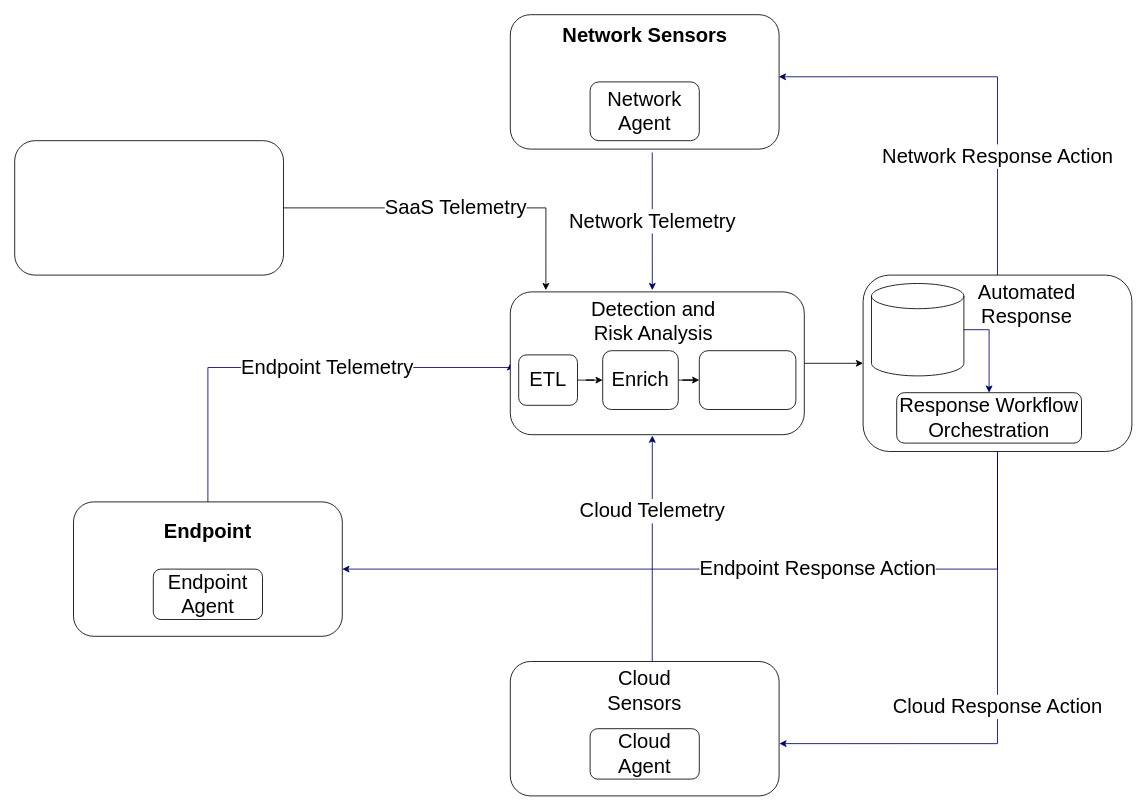
This 1147x811 diagram has some shape labels left out. The shapes that lost their labels are listed below. From the top down, each one's centre as x and y in pixels, then its label:
At [149,207]: "3rd Party SaaS Applications".
At [917,329]: "Machine Readable Playbooks".
At [747,380]: "Behaviour Analysis".
